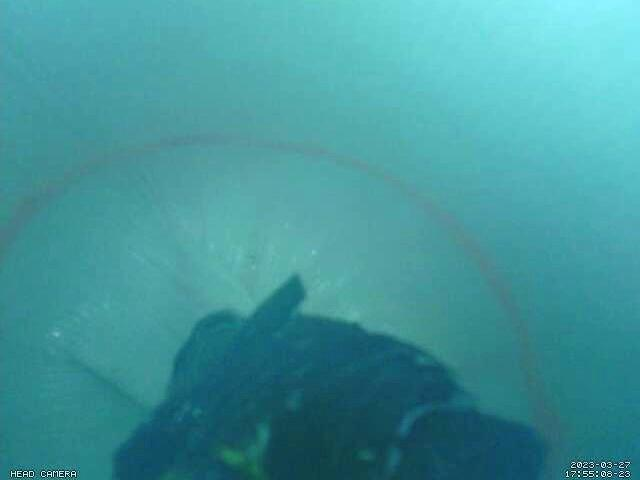head: (0, 131, 569, 480)
